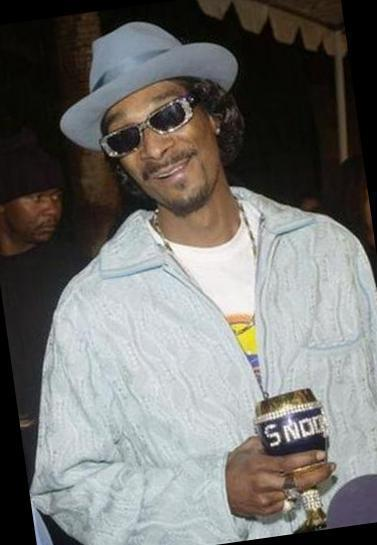Drunk: (110, 97, 217, 208)
